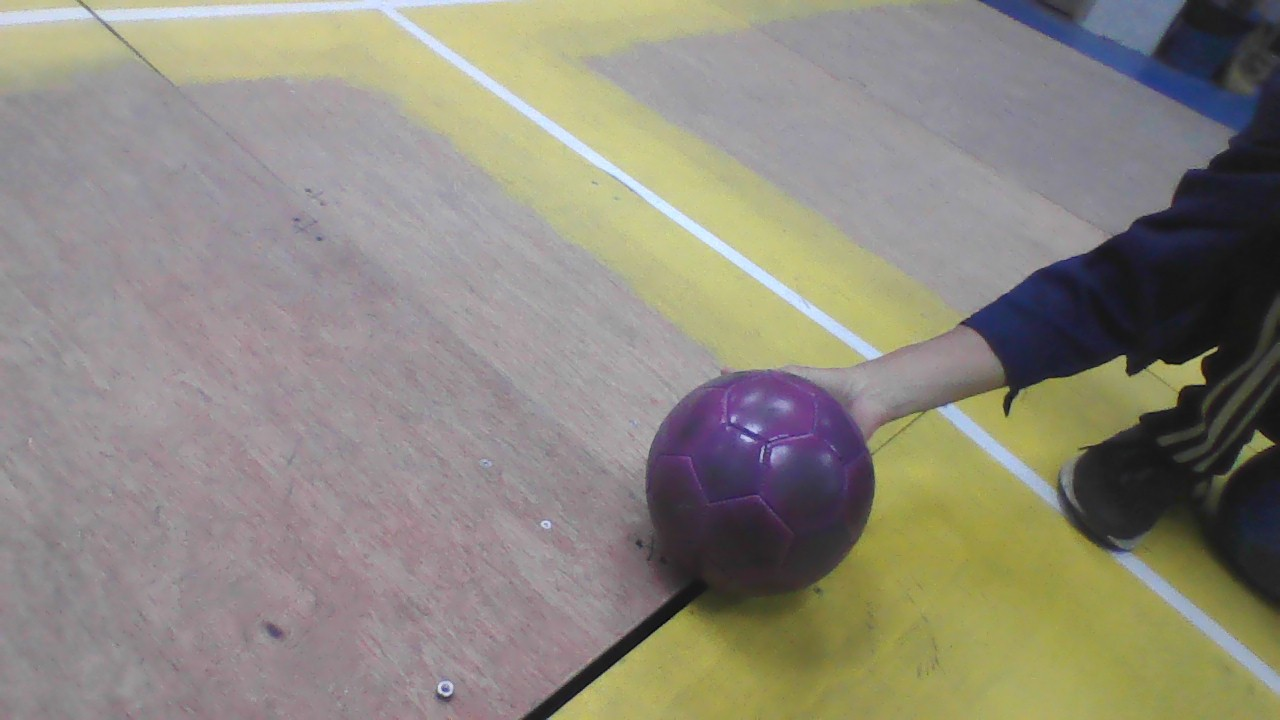Purple: (647, 371, 875, 596)
